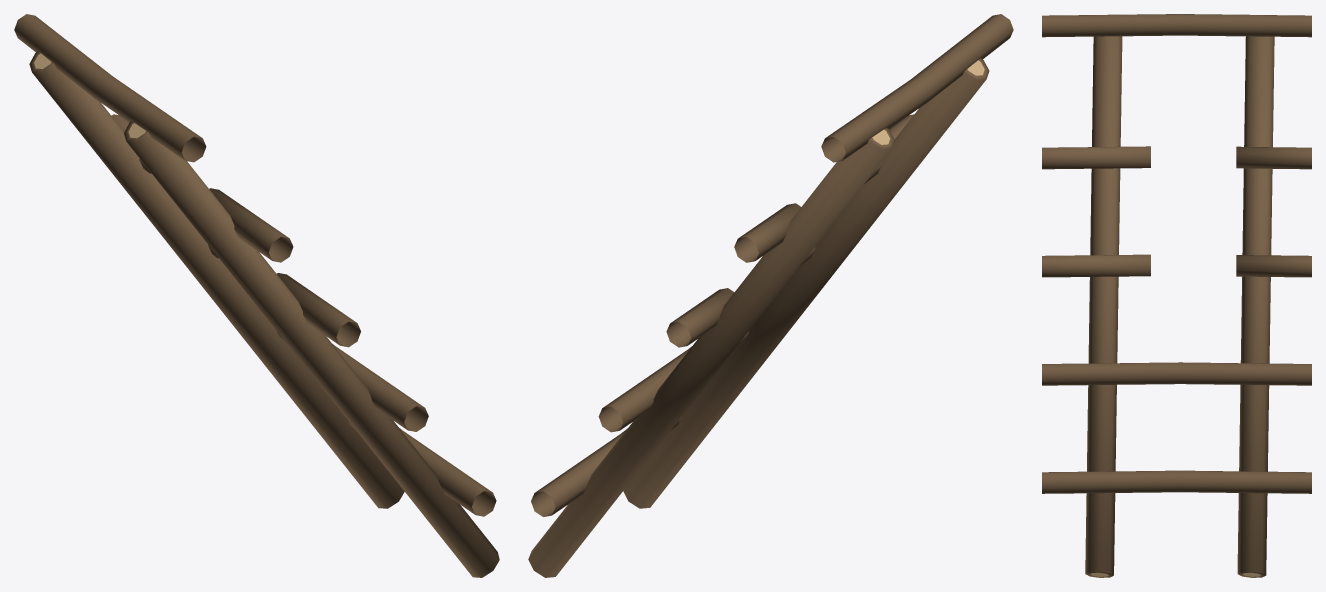
File: rpgpp_ag_roof_support_01_6x5x3_half_b_chimney_01.fbx
3 renders of one model, left to right at view 1: azimuth 30°, elevation 25°; view 2: azimuth 150°, elevation 25°; view 3: azimuth 270°, elevation 25°, orthographic. The views are drawn at different scales.
Visible parts, largest first — view 1: rpgpp_ag_roof_support_01_6x5x3_half_b_chimney_01; view 2: rpgpp_ag_roof_support_01_6x5x3_half_b_chimney_01; view 3: rpgpp_ag_roof_support_01_6x5x3_half_b_chimney_01.
Part boxes in pixels (<box>): rpgpp_ag_roof_support_01_6x5x3_half_b_chimney_01: <box>14,14,499,577</box>; rpgpp_ag_roof_support_01_6x5x3_half_b_chimney_01: <box>528,14,1013,577</box>; rpgpp_ag_roof_support_01_6x5x3_half_b_chimney_01: <box>1042,14,1311,577</box>.
Size of the model in its own units: 3.78 by 5.37 by 3.
